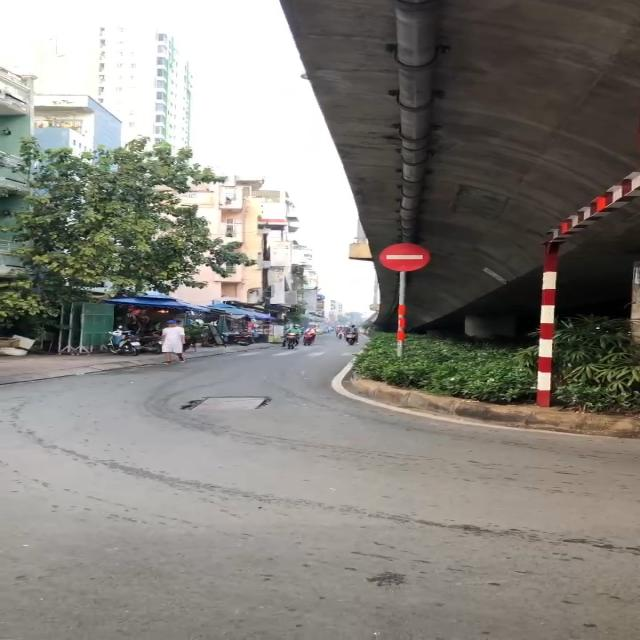Bien bao cam di nguoc chieu: (378, 239, 432, 277)
